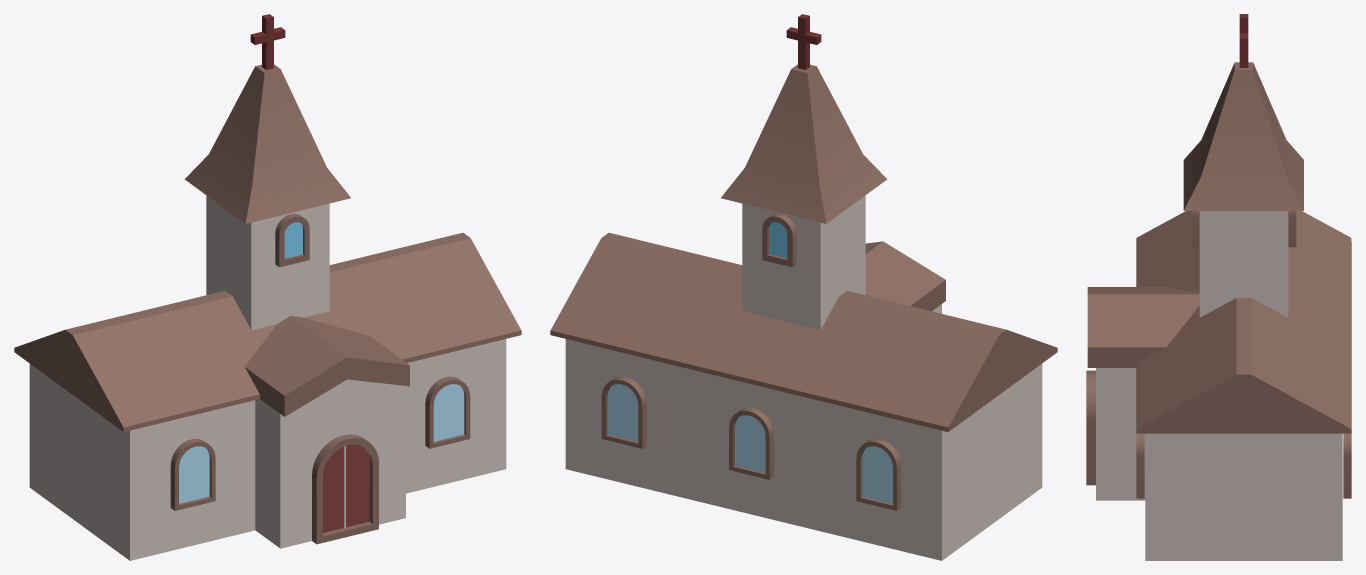
The model's file is church.fbx.
3 views of the same model, side by side, from view 1: azimuth 30°, elevation 25°; view 2: azimuth 150°, elevation 25°; view 3: azimuth 270°, elevation 25° (orthographic).
Visible parts, largest first — view 1: Cube.503; view 2: Cube.503; view 3: Cube.503.
Boxes of the visible parts, x1,y1,x2,y2 form: Cube.503: [14, 14, 521, 560]; Cube.503: [550, 14, 1057, 560]; Cube.503: [1086, 14, 1351, 560].
Bounding box in the file's own units: 200 × 223 × 117.
Materials: 1 (1 with a texture image).
